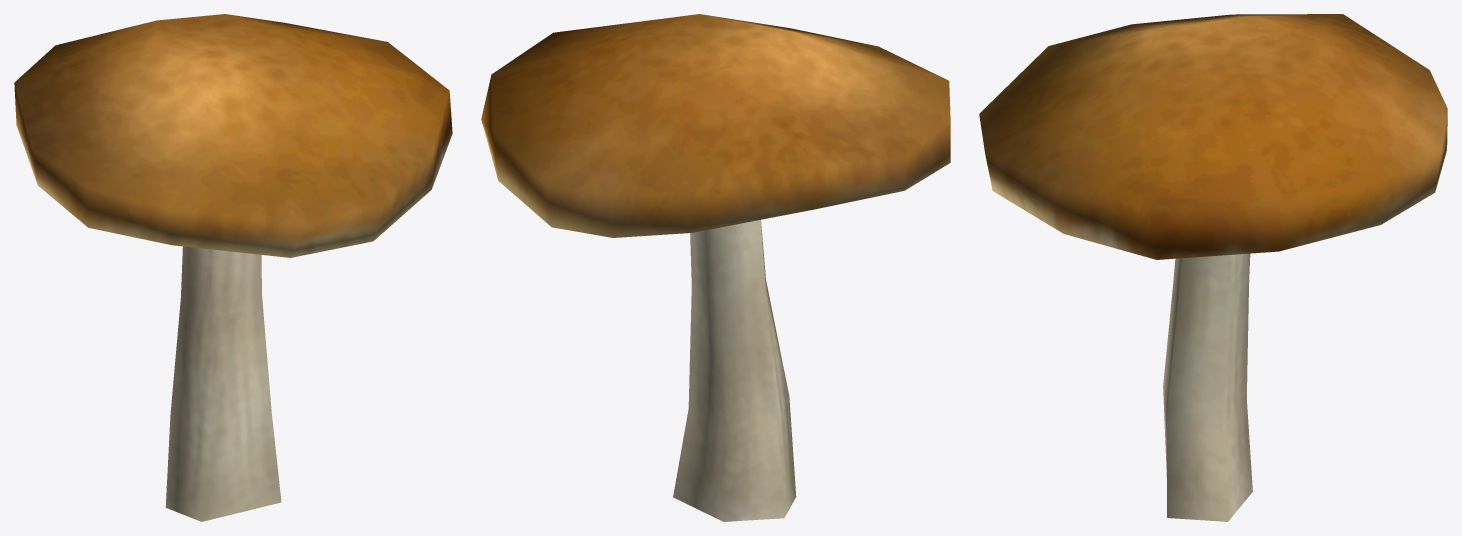
Rendered from mushroom_03.glb.
The picture shows the model from 3 angles, left to right: view 1: azimuth 30°, elevation 25°; view 2: azimuth 150°, elevation 25°; view 3: azimuth 270°, elevation 25°; orthographic projection. The views are drawn at different scales.
Visible parts, largest first — view 1: mushroom_03; view 2: mushroom_03; view 3: mushroom_03.
Part boxes in pixels (x1,y1,x2,y2): mushroom_03: (14, 14, 452, 521); mushroom_03: (481, 14, 950, 521); mushroom_03: (979, 14, 1447, 521).
Size of the model in its own units: 0.4369 by 0.4841 by 0.4493.
Materials: 1 (1 with a texture image).
